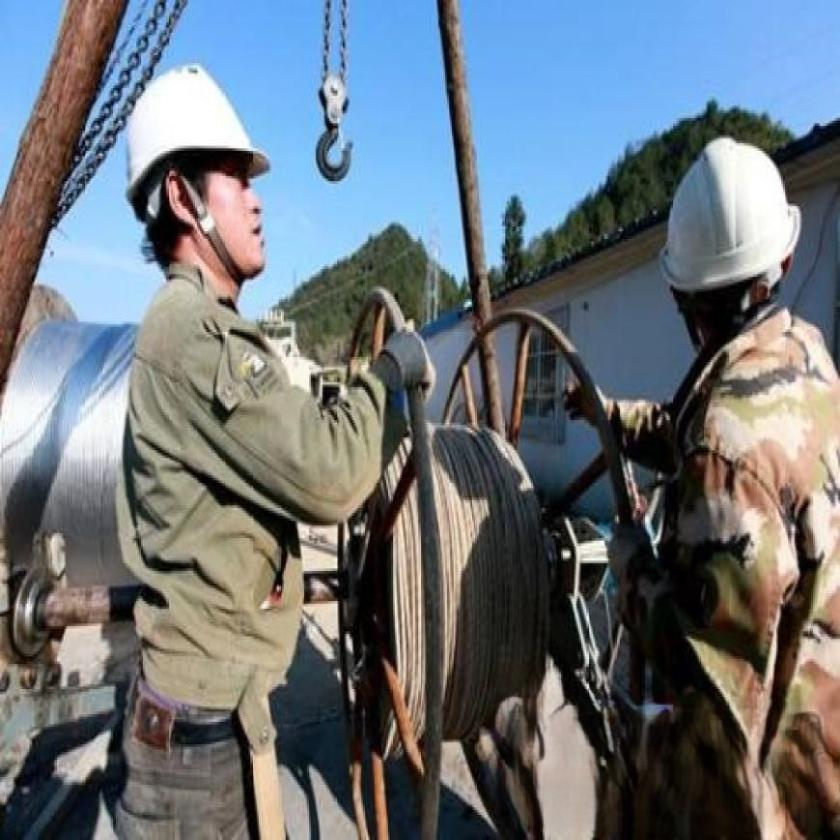Con_casco: (119, 63, 279, 314), (656, 134, 806, 354)
